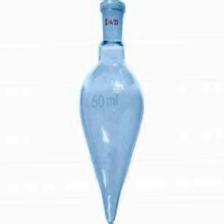Pear shaped flask: (68, 5, 153, 217)
